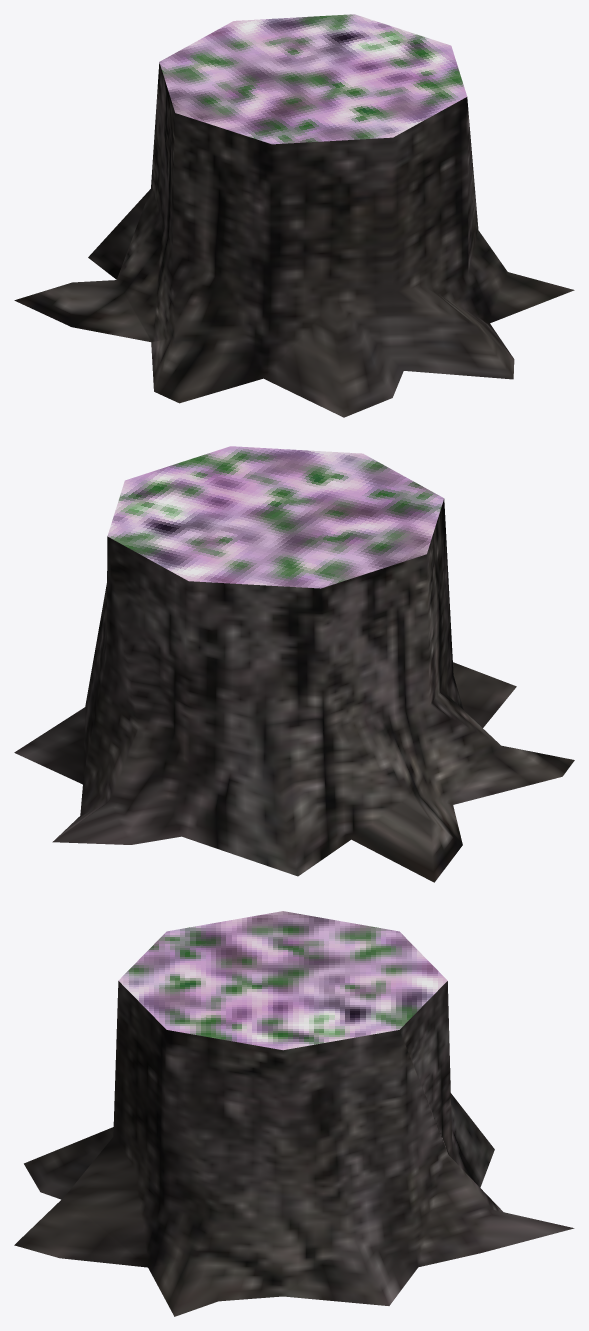
File: Tree07.obj
The picture shows the model from 3 angles, top to bottom: view 1: azimuth 30°, elevation 25°; view 2: azimuth 150°, elevation 25°; view 3: azimuth 270°, elevation 25°; orthographic projection. The views are drawn at different scales.
Visible parts, largest first — view 1: Mesh_0, Mesh_1; view 2: Mesh_0, Mesh_1; view 3: Mesh_0, Mesh_1.
Boxes of the visible parts, x1,y1,x2,y2 form: Mesh_0: (14,62,574,417); Mesh_1: (159,14,466,144); Mesh_0: (14,499,574,882); Mesh_1: (107,446,443,588); Mesh_0: (14,981,574,1316); Mesh_1: (118,911,447,1050).
Bounding box in the file's own units: 1.42 × 0.7053 × 1.55.
2 materials, 2 textured.
